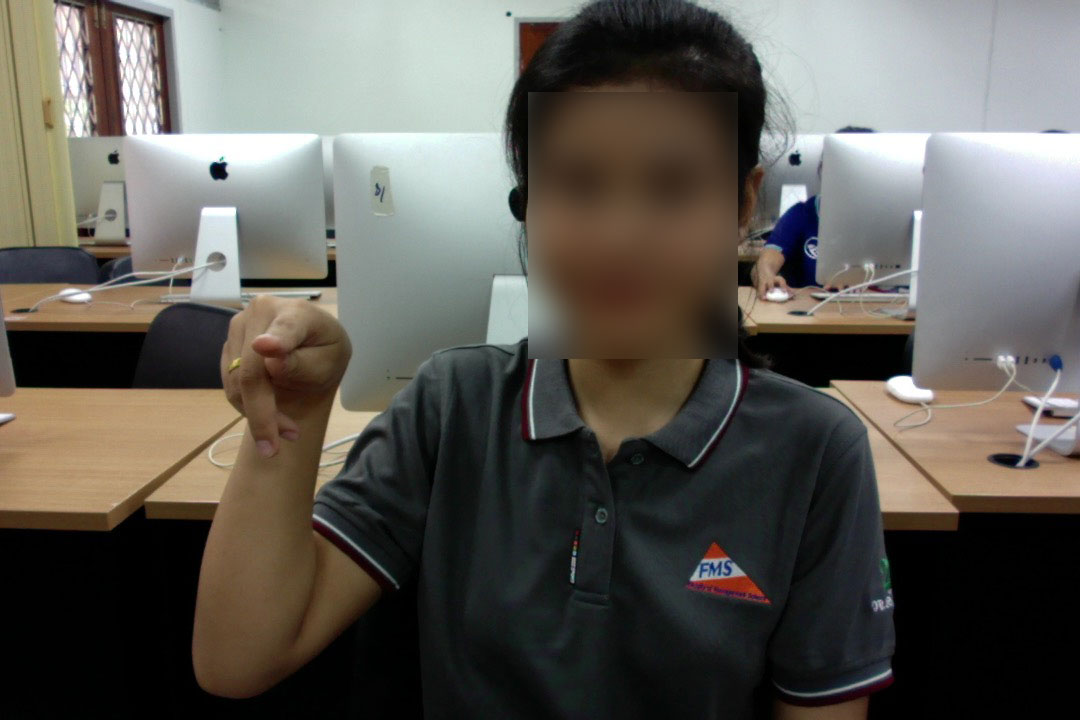por: (208, 287, 360, 464)
